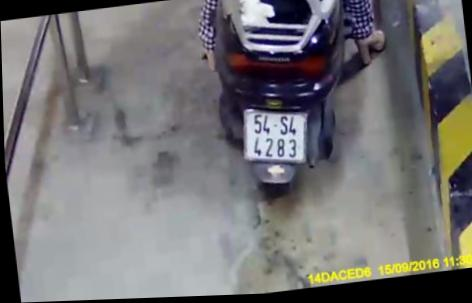LP: (238, 101, 314, 174)
